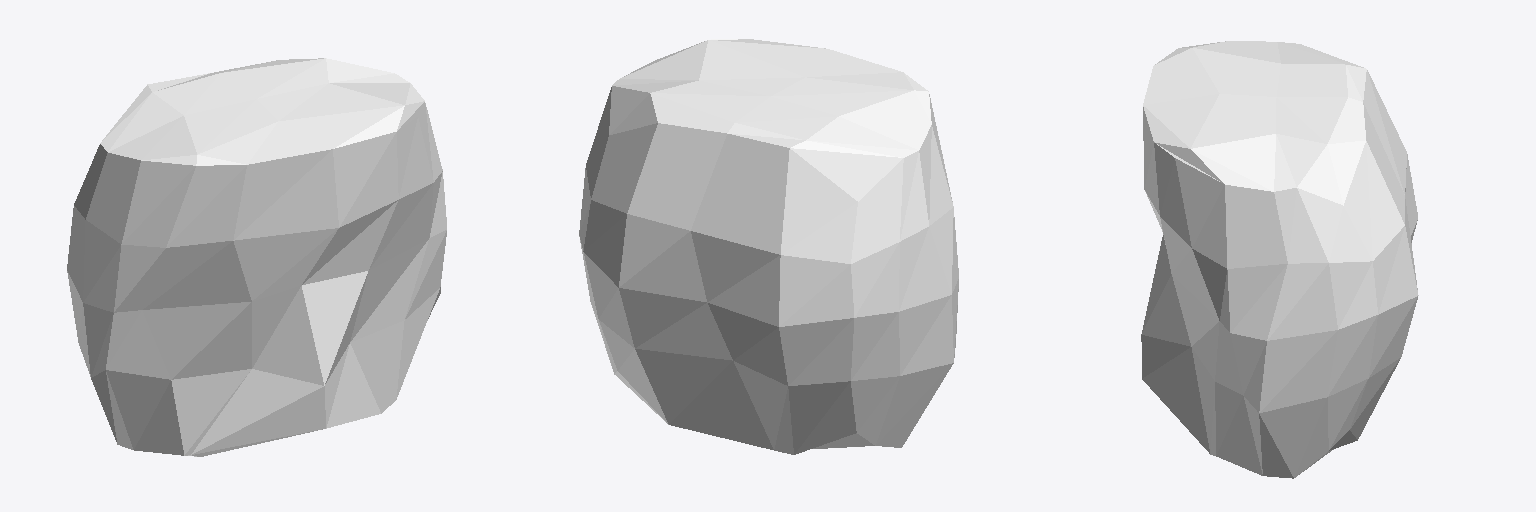
3 renders of one model, left to right at view 1: azimuth 30°, elevation 25°; view 2: azimuth 150°, elevation 25°; view 3: azimuth 270°, elevation 25°, orthographic.
Parts seen in each view (by area): view 1: papermesh; view 2: papermesh; view 3: papermesh.
Boxes of the visible parts, <box> form: papermesh: <box>67,58,446,456</box>; papermesh: <box>579,39,958,454</box>; papermesh: <box>1141,41,1418,478</box>.
Size of the model in its own units: 169 by 144 by 114.